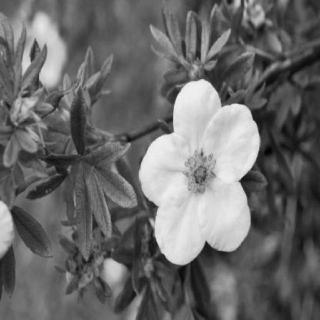other: (133, 82, 251, 258), (0, 202, 14, 270)
